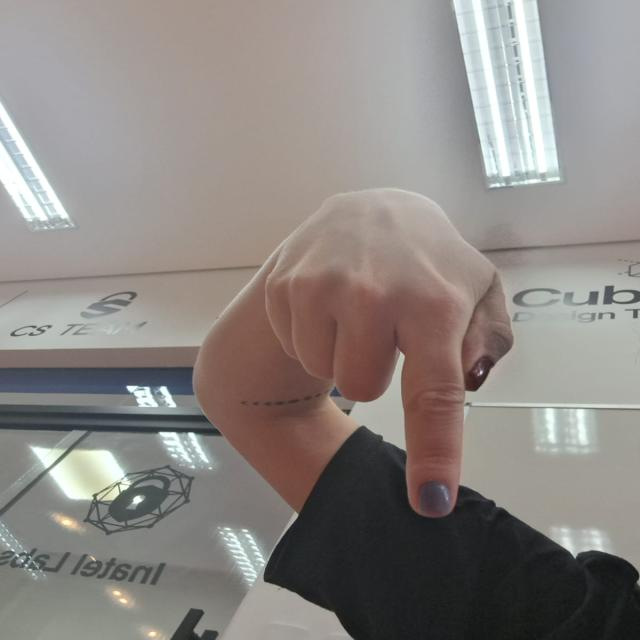Q: (259, 190, 517, 518)
